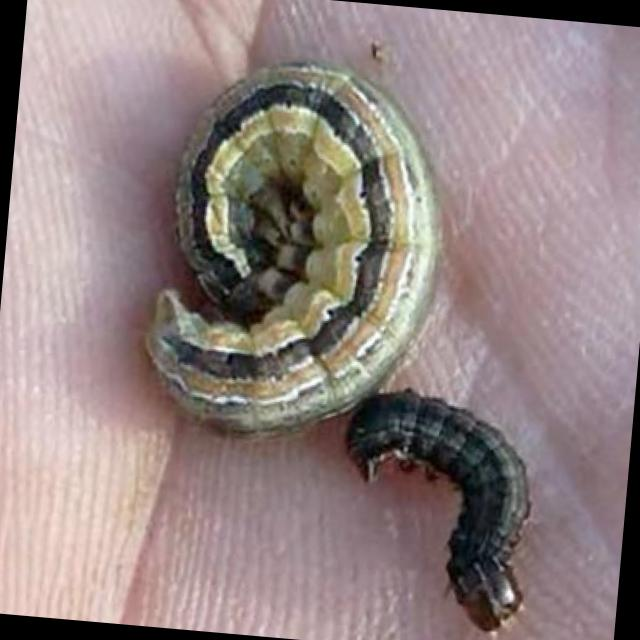armyworm: (123, 42, 461, 452), (319, 377, 562, 640)
